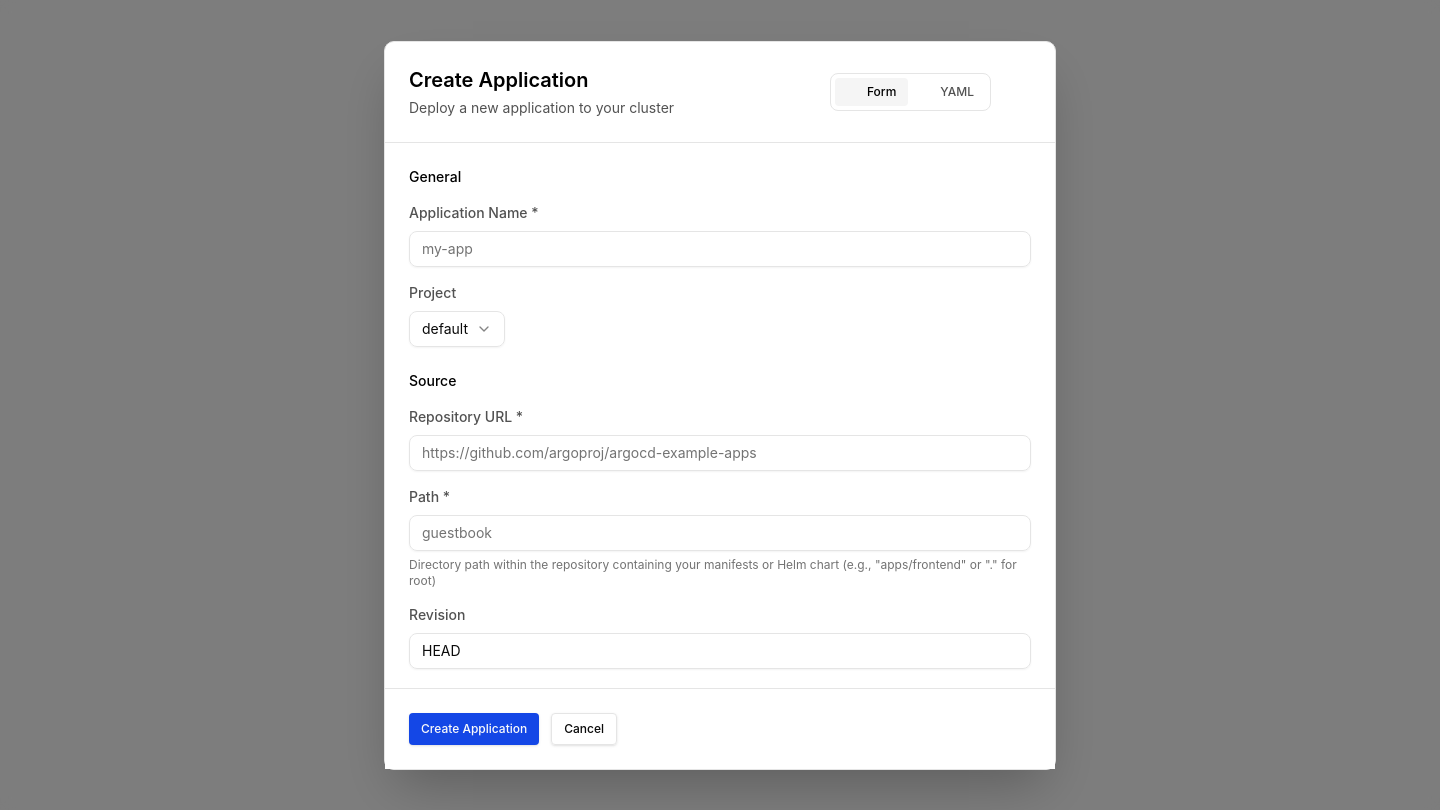
Test: CreateApplicationPanel › rejects manifests that define both source and sources
Click the button "YAML": (947, 92) [908,78,986,106]
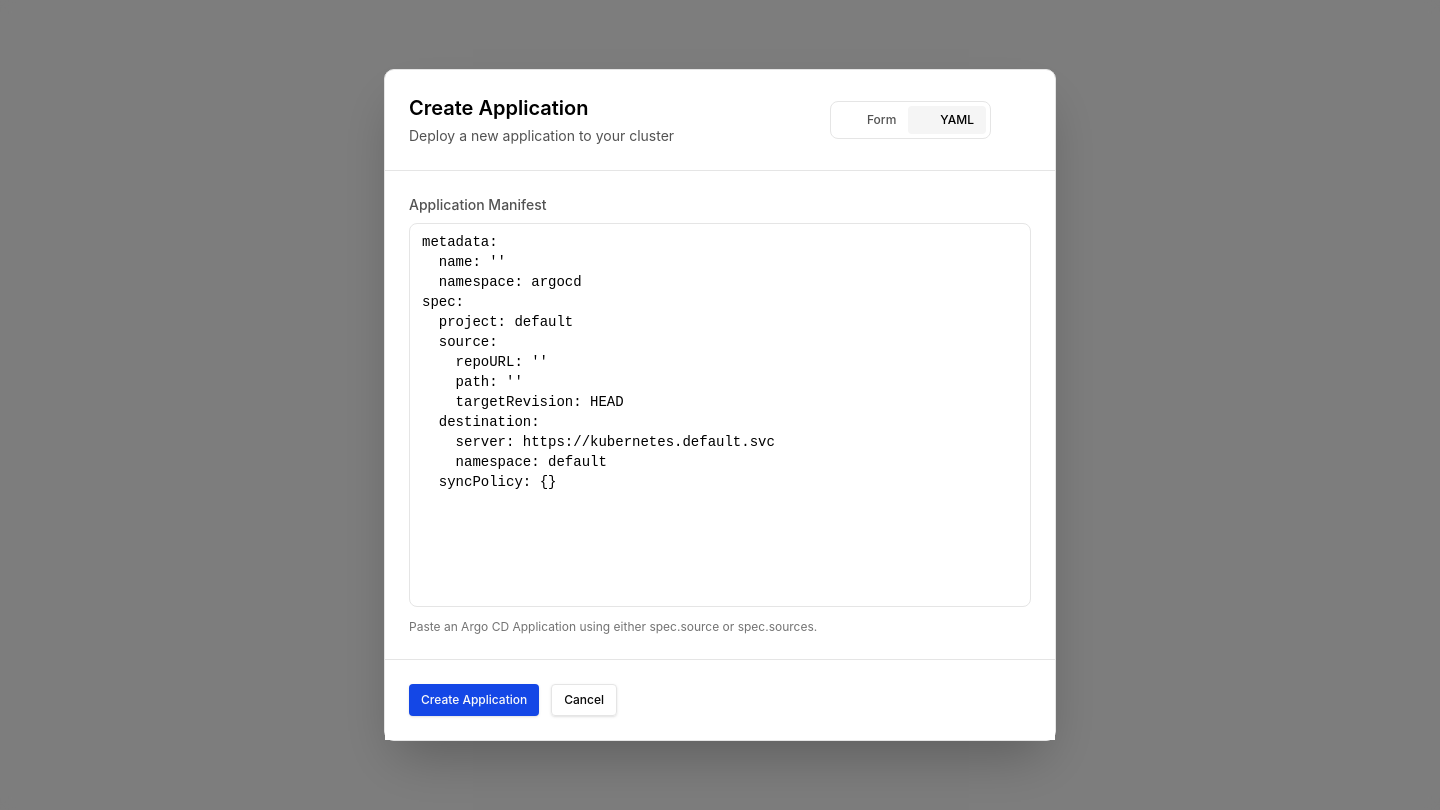
Replace the text in the text box labelled "Application Manifest" with " metadata:   name: ambiguous spec:   source:     repoURL: https://github.com/example/app.git     path: app   sources:     - repoURL: https://github.com/example/app.git       path: app   destination:  ": (720, 415) [409,223,1031,607]
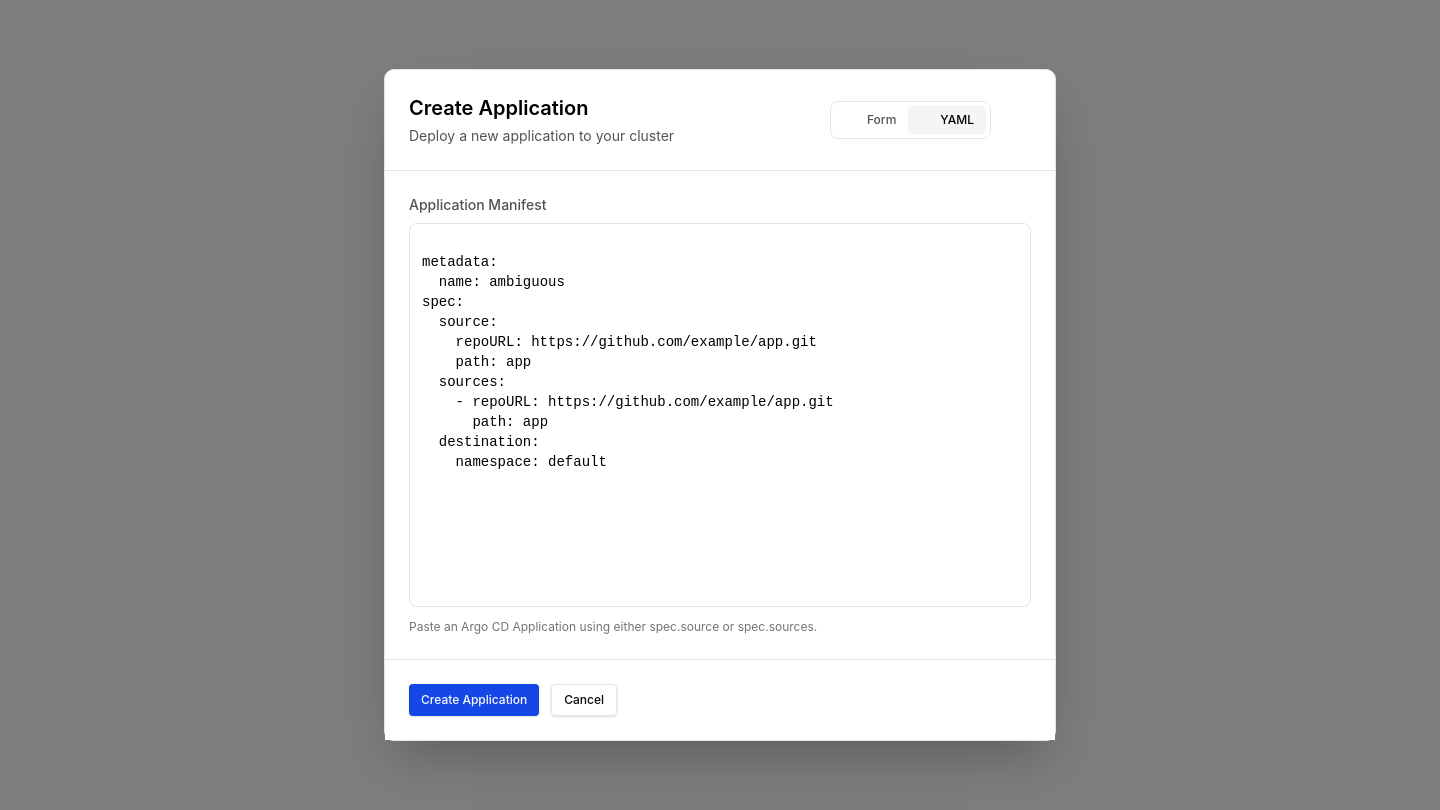
Click the button "Create Application": (474, 700) [409,684,539,716]
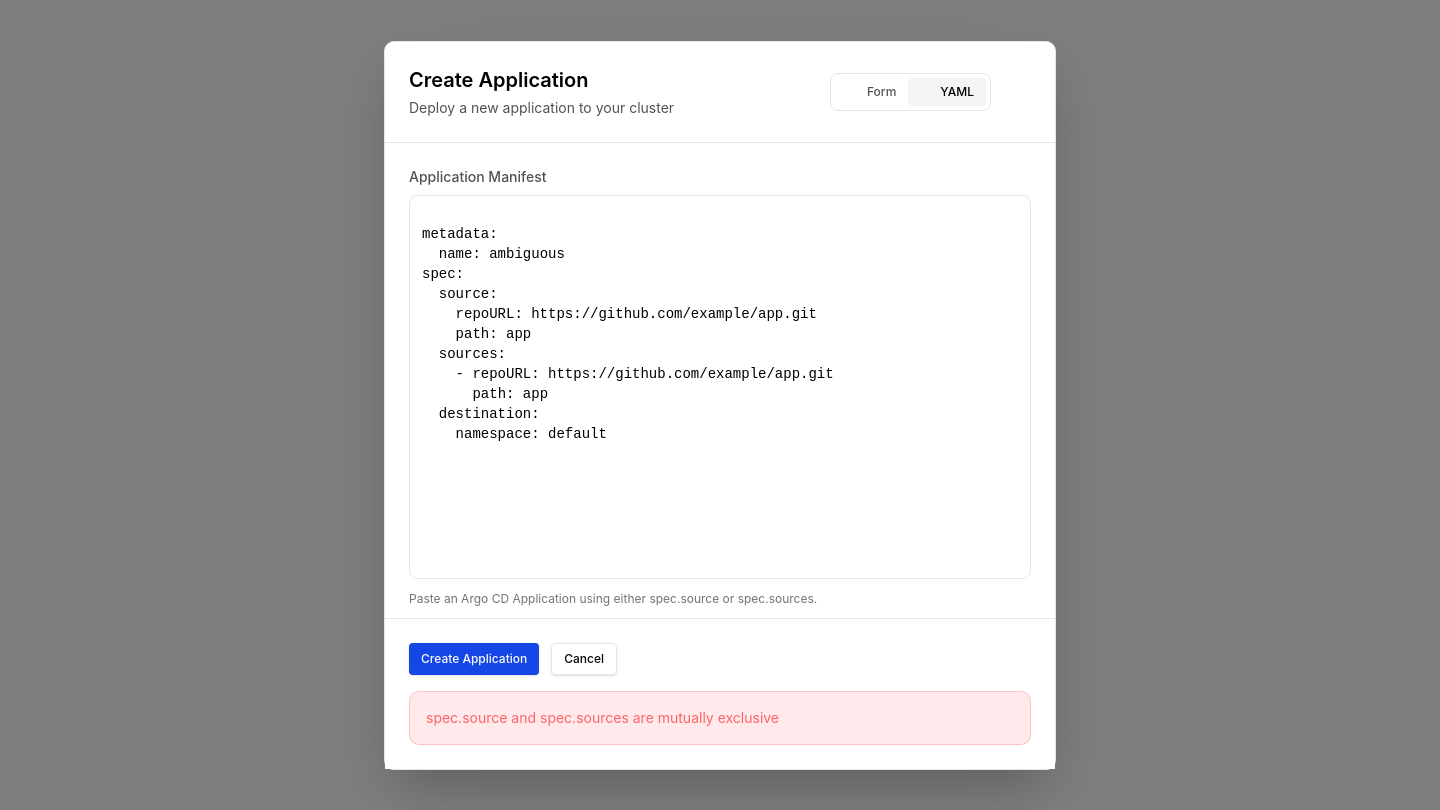
Now the text "spec.source and spec.sources are mutually exclusive" is shown, box [426,708,779,726]
